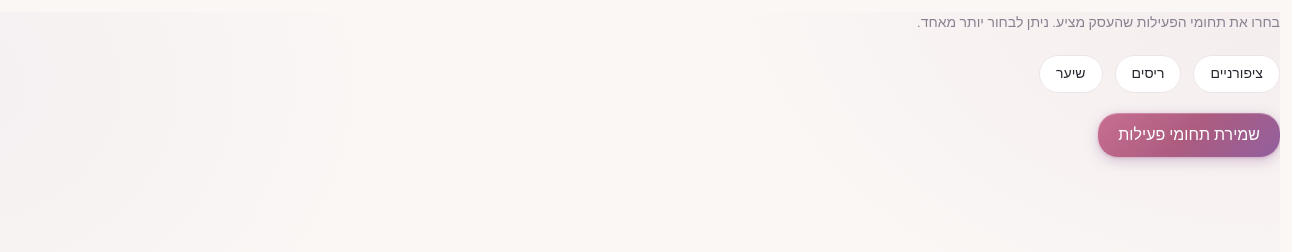
Test case: BusinessCategoriesForm › renders a form-level error returned from the action
Click the button "שמירת תחומי פעילות" at point(1189, 135), box [1098,113,1280,157]
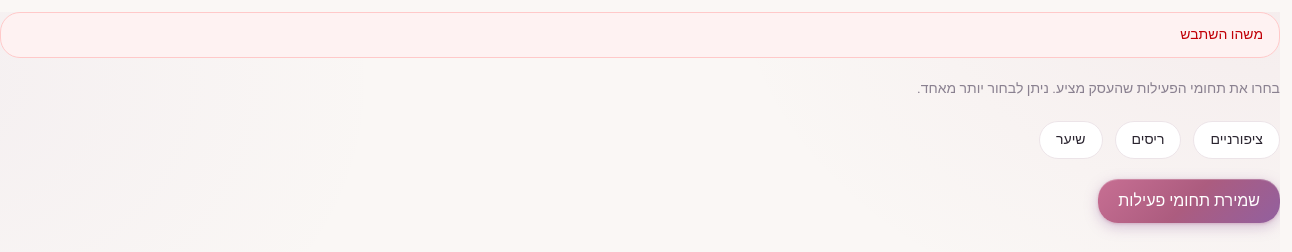
Expected: the text "משהו השתבש" is shown, [0,12,1280,58]
